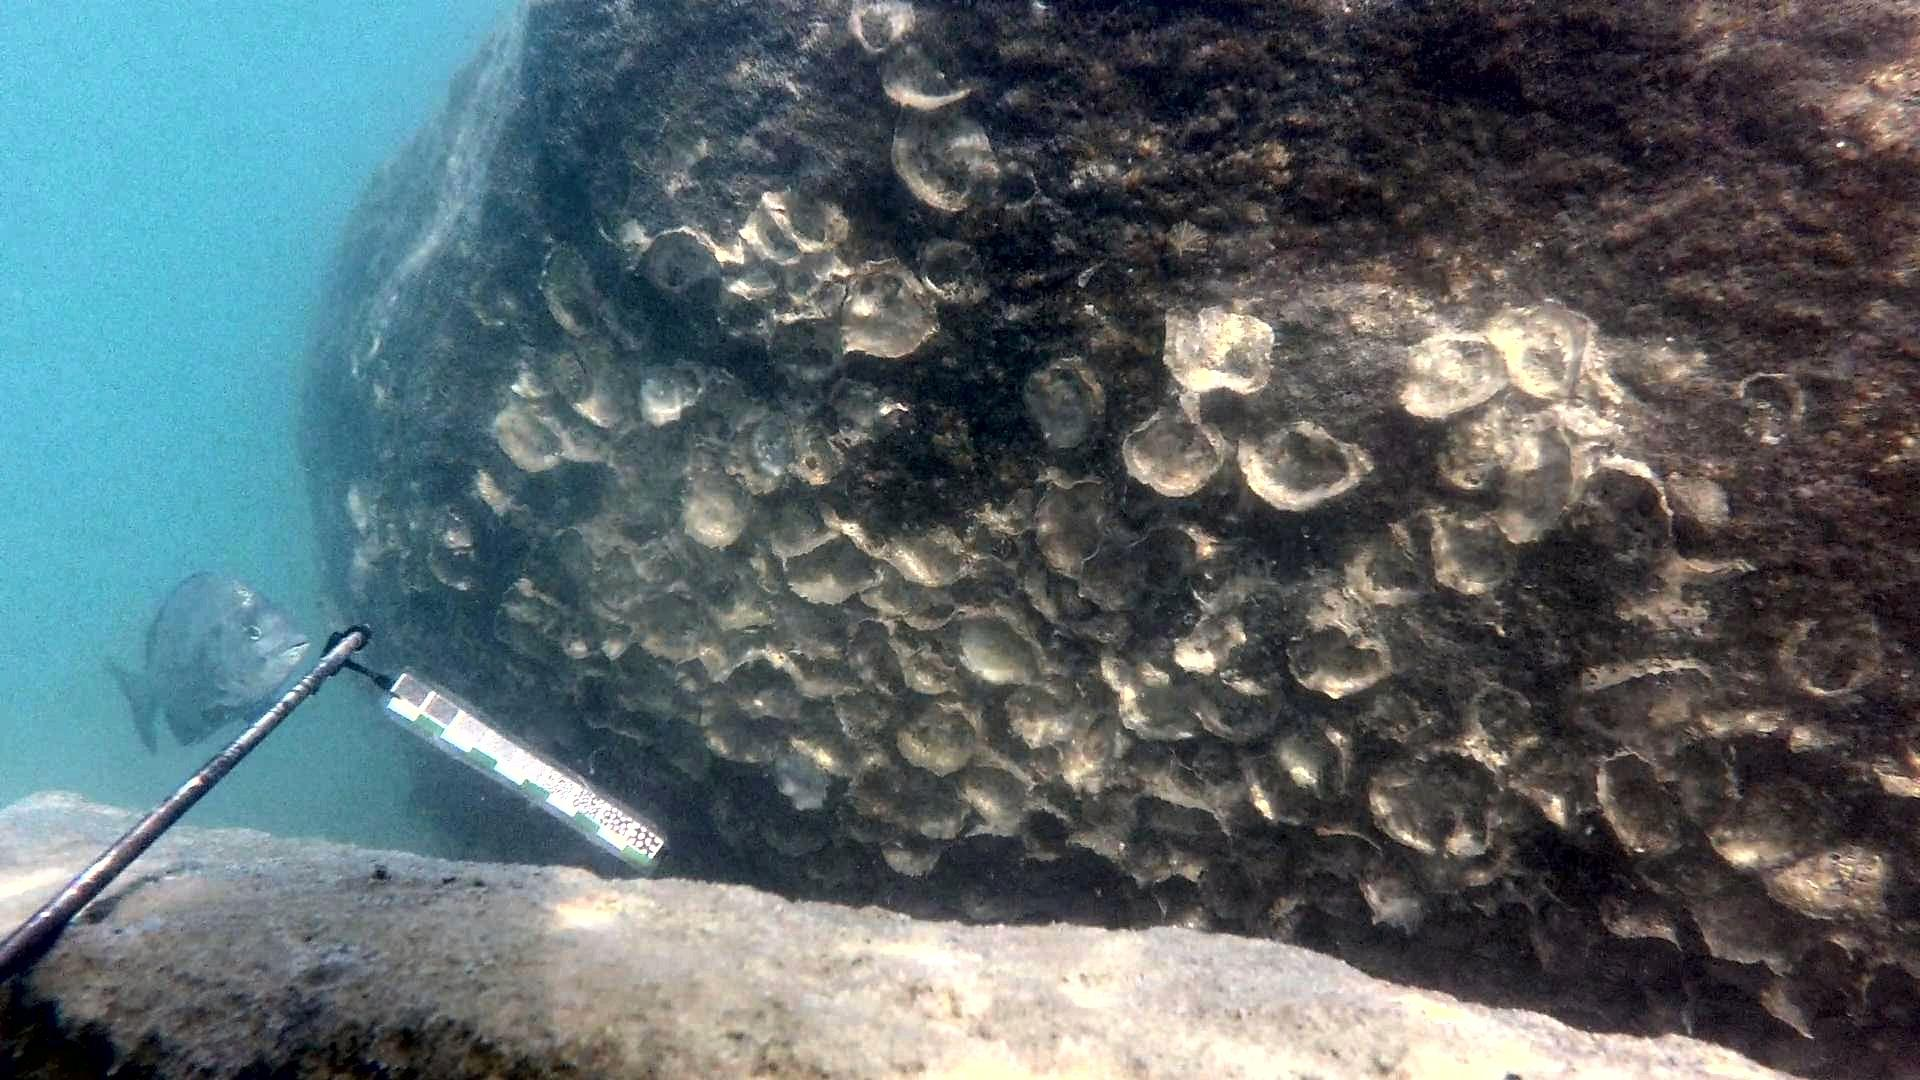acanthopagrus palmaris: (95, 563, 327, 769)
